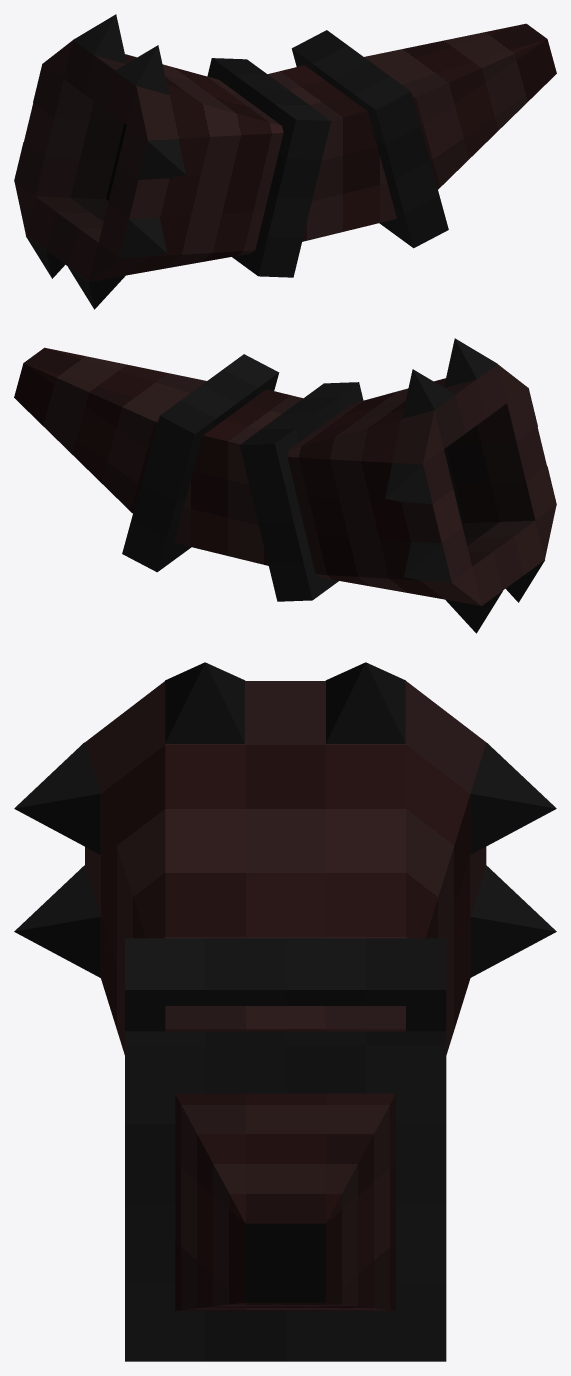
Rendered from horn_infernal.obj.
The picture shows the model from 3 angles, top to bottom: view 1: azimuth 30°, elevation 25°; view 2: azimuth 150°, elevation 25°; view 3: azimuth 270°, elevation 25°; orthographic projection. The views are drawn at different scales.
Visible parts, largest first — view 1: HORN_END_Cube.012, HORN_START_Cube.008, BRACE_START_Cube.009, BRACE_END_Cube.010, HORN_MID_Cube.007, HORN_EXTRA_INFERNAL_Cube.001; view 2: HORN_END_Cube.012, HORN_START_Cube.008, BRACE_START_Cube.009, BRACE_END_Cube.010, HORN_MID_Cube.007, HORN_EXTRA_INFERNAL_Cube.001; view 3: HORN_END_Cube.012, BRACE_START_Cube.009, HORN_START_Cube.008, HORN_EXTRA_INFERNAL_Cube.001, BRACE_END_Cube.010, HORN_MID_Cube.007.
Part boxes in pixels (x1,y1,x2,y2): HORN_END_Cube.012: [14, 40, 283, 281]; HORN_START_Cube.008: [364, 23, 556, 189]; BRACE_START_Cube.009: [291, 30, 448, 248]; BRACE_END_Cube.010: [207, 58, 331, 277]; HORN_MID_Cube.007: [267, 65, 396, 241]; HORN_EXTRA_INFERNAL_Cube.001: [14, 14, 185, 309]; HORN_END_Cube.012: [287, 364, 556, 605]; HORN_START_Cube.008: [14, 347, 206, 513]; BRACE_START_Cube.009: [122, 354, 279, 572]; BRACE_END_Cube.010: [239, 382, 363, 601]; HORN_MID_Cube.007: [174, 389, 302, 565]; HORN_EXTRA_INFERNAL_Cube.001: [385, 338, 556, 633]; HORN_END_Cube.012: [85, 681, 486, 1054]; BRACE_START_Cube.009: [125, 1031, 446, 1361]; HORN_START_Cube.008: [175, 1093, 395, 1310]; HORN_EXTRA_INFERNAL_Cube.001: [14, 662, 556, 977]; BRACE_END_Cube.010: [125, 938, 446, 1031]; HORN_MID_Cube.007: [165, 1006, 405, 1031].
Bounding box in the file's own units: 0.8383 × 0.4082 × 0.4226.
